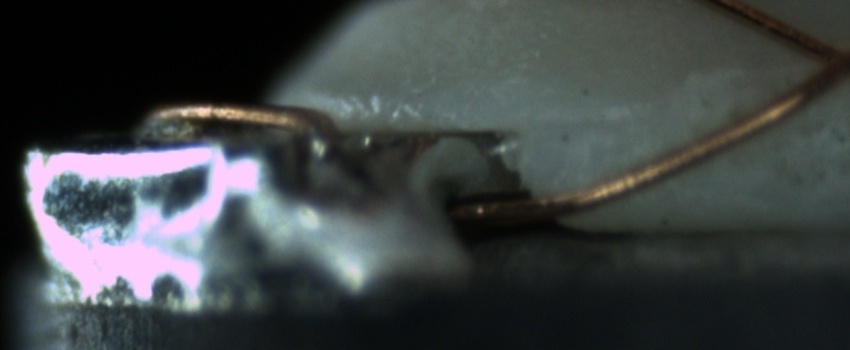CL: (799, 26, 850, 91)
DL: (534, 98, 690, 154)
TE: (122, 97, 342, 147)
